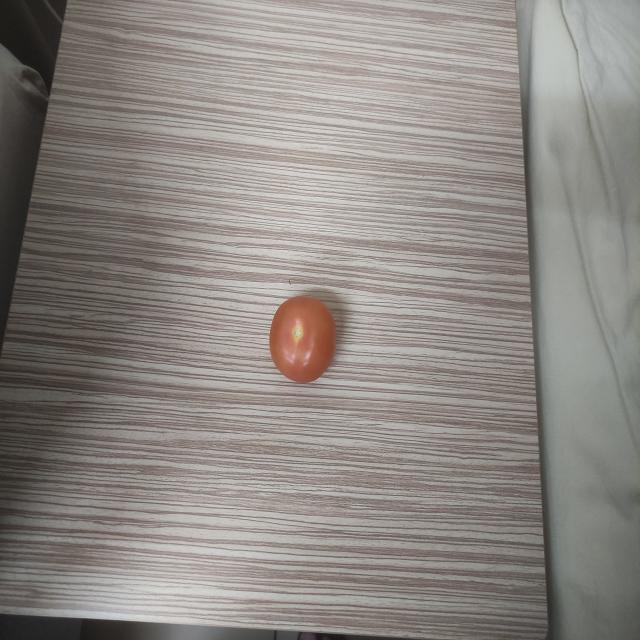sari: (266, 280, 342, 395)
